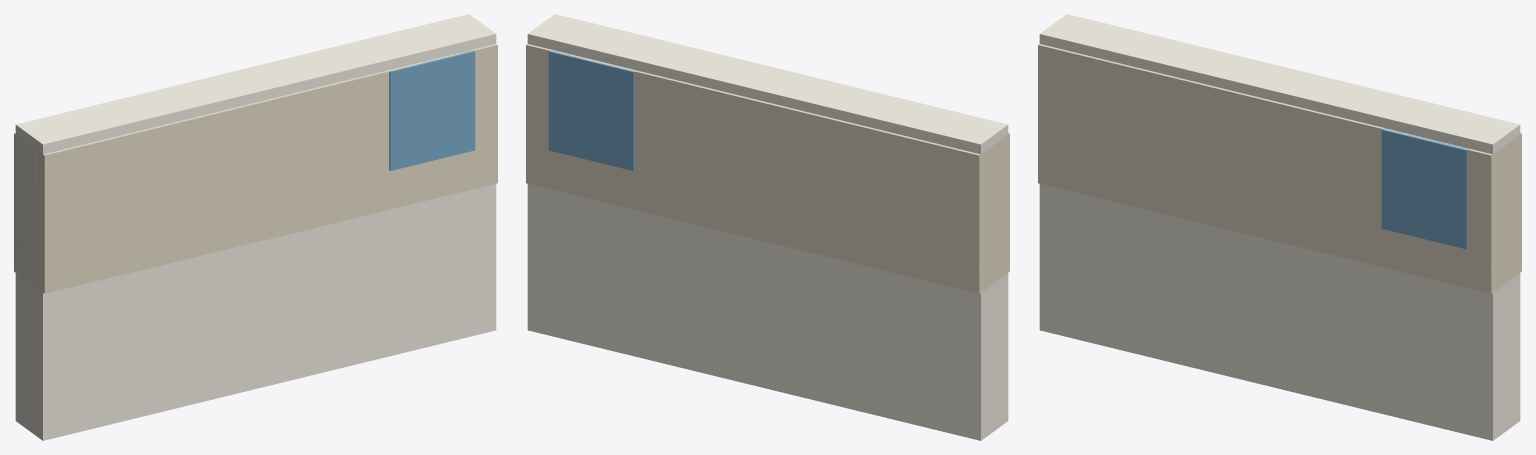
Rendered from envelope.glb.
3 views of the same model, side by side, from view 1: azimuth 30°, elevation 25°; view 2: azimuth 150°, elevation 25°; view 3: azimuth 330°, elevation 25° (orthographic).
Visible parts, largest first — view 1: envelope; view 2: envelope; view 3: envelope.
Boxes of the visible parts, <box> form: envelope: <box>14,14,497,440</box>; envelope: <box>526,14,1009,440</box>; envelope: <box>1038,14,1521,440</box>.
Size of the model in its own units: 0.24 by 0.15 by 0.03.
